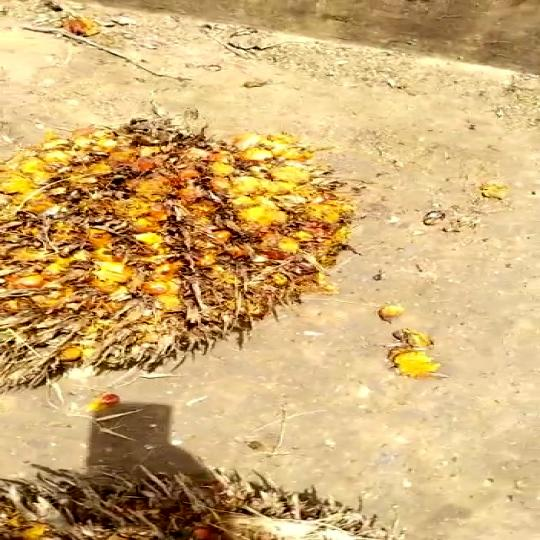terlalu masak: (0, 100, 365, 416)
